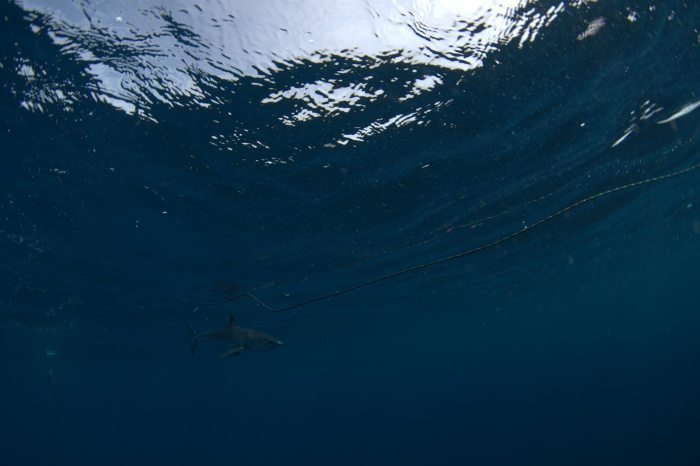Mako: (160, 303, 297, 371)
